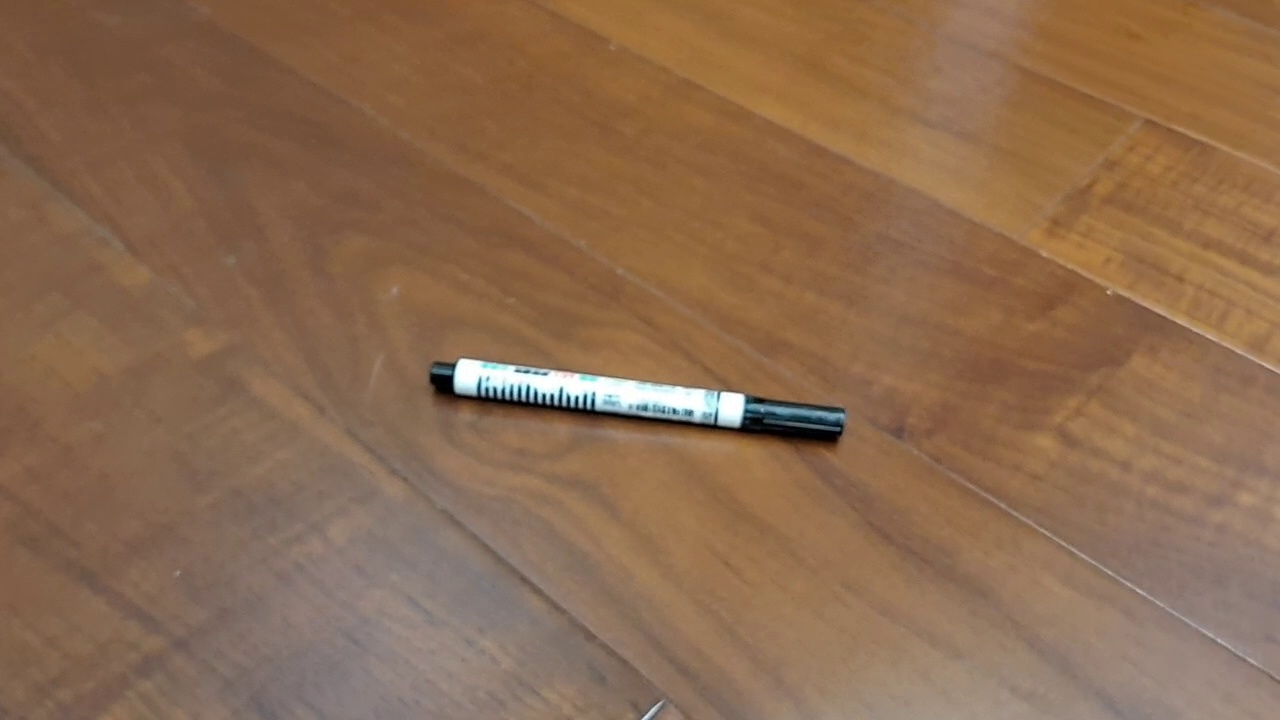pen: (429, 356, 846, 443)
